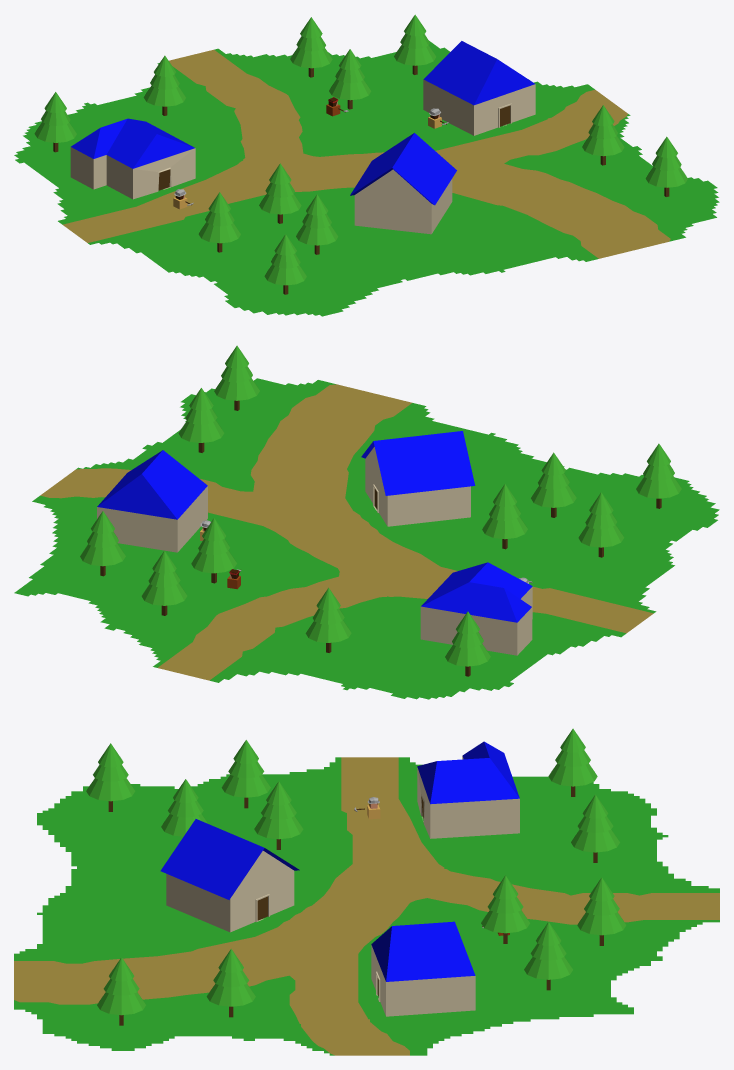
Rendered from Village.glb.
3 views of the same model, one above another, from view 1: azimuth 30°, elevation 25°; view 2: azimuth 150°, elevation 25°; view 3: azimuth 270°, elevation 25° (orthographic). The views are drawn at different scales.
Visible parts, largest first — view 1: Grid, House2.001, House1.001, House3.001, Tree1.007, Tree1.001, Tree1.006, Tree1.008, Tree1.010, Tree1.003, Tree1.005, Tree1.011 (+3 smaller); view 2: Grid, House2.001, House3.001, House1.001, Tree1.002, Tree1.010, Tree1.007, Tree1.006, Tree1.009, Tree1.008, Tree1.001, Tree1.003 (+3 smaller); view 3: Grid, House2.001, House3.001, House1.001, Tree1.010, Tree1.002, Tree1.007, Tree1.011, Tree1.003, Tree1.001, Tree1.006, Tree1.009 (+3 smaller).
Boxes of the visible parts, <box> form: Grid: <box>14,41,719,316</box>; House2.001: <box>350,133,456,234</box>; House1.001: <box>70,118,195,199</box>; House3.001: <box>423,41,535,135</box>; Tree1.007: <box>198,192,240,252</box>; Tree1.001: <box>329,49,371,109</box>; Tree1.006: <box>259,163,301,223</box>; Tree1.008: <box>296,194,338,254</box>; Tree1.010: <box>582,105,624,165</box>; Tree1.003: <box>394,14,436,74</box>; Tree1.005: <box>34,92,76,152</box>; Tree1.011: <box>645,136,687,196</box>; Grid: <box>14,378,719,699</box>; House2.001: <box>361,431,475,526</box>; House3.001: <box>97,450,207,552</box>; House1.001: <box>420,562,532,655</box>; Tree1.002: <box>141,550,187,615</box>; Tree1.010: <box>178,388,224,452</box>; Tree1.007: <box>578,492,624,557</box>; Tree1.006: <box>482,484,527,549</box>; Tree1.009: <box>636,443,681,508</box>; Tree1.008: <box>531,452,576,517</box>; Tree1.001: <box>191,518,236,583</box>; Tree1.003: <box>80,511,125,576</box>; Grid: <box>14,757,719,1055</box>; House2.001: <box>160,819,299,932</box>; House3.001: <box>371,921,475,1016</box>; House1.001: <box>417,741,519,838</box>; Tree1.010: <box>206,949,255,1017</box>; Tree1.002: <box>577,877,626,945</box>; Tree1.007: <box>221,740,270,808</box>; Tree1.011: <box>97,957,145,1025</box>; Tree1.003: <box>524,922,572,990</box>; Tree1.001: <box>481,875,529,943</box>; Tree1.006: <box>254,781,303,849</box>; Tree1.009: <box>86,743,135,811</box>.
Bounding box in the file's own units: 62.3 × 7.11 × 62.3.
